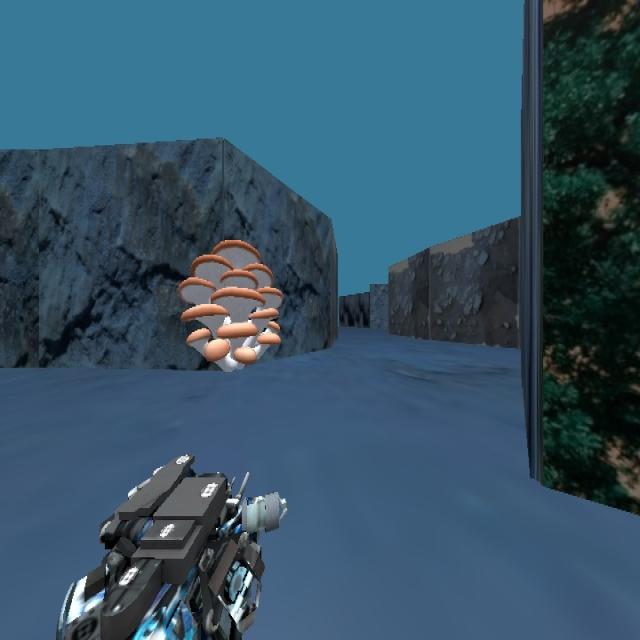Mushroom: (177, 237, 283, 371)
